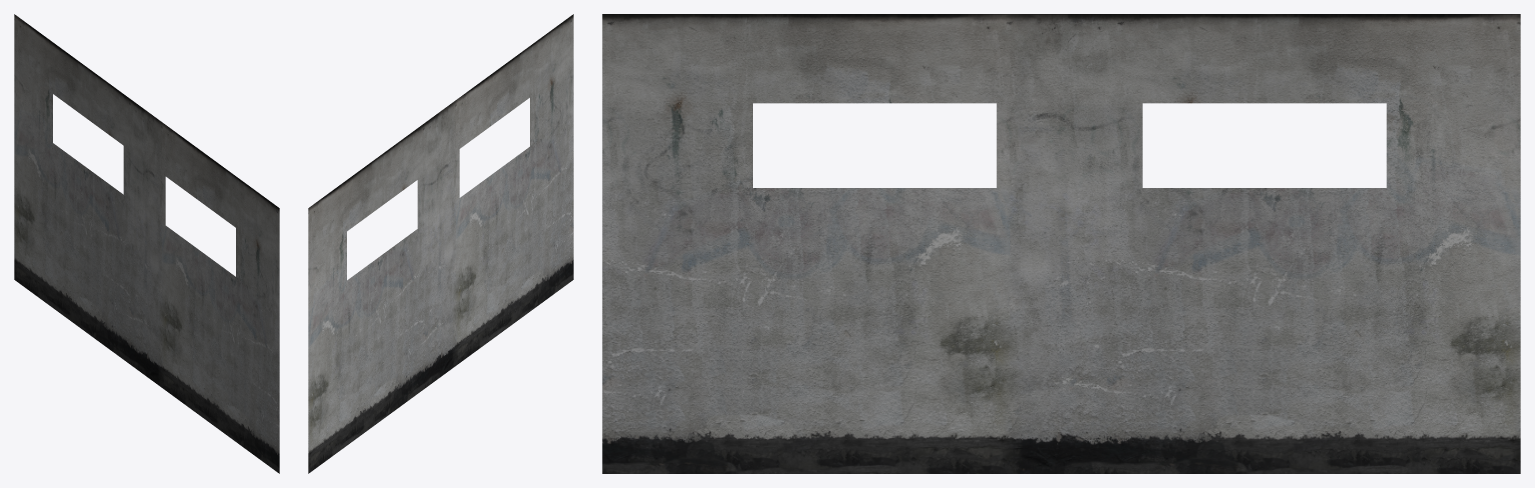
File: sm_GarageBack_01_02.fbx
3 renders of one model, left to right at view 1: azimuth 30°, elevation 25°; view 2: azimuth 150°, elevation 25°; view 3: azimuth 270°, elevation 25°, orthographic. The views are drawn at different scales.
Visible parts, largest first — view 1: sm_GarageBack_01_02_LOD0; view 2: sm_GarageBack_01_02_LOD0; view 3: sm_GarageBack_01_02_LOD0.
Boxes of the visible parts, bbox=[...] form: sm_GarageBack_01_02_LOD0: bbox=[14, 14, 279, 473]; sm_GarageBack_01_02_LOD0: bbox=[308, 14, 573, 473]; sm_GarageBack_01_02_LOD0: bbox=[602, 14, 1520, 473].
Bounding box in the file's own units: 550 × 6.53e-05 × 304.
